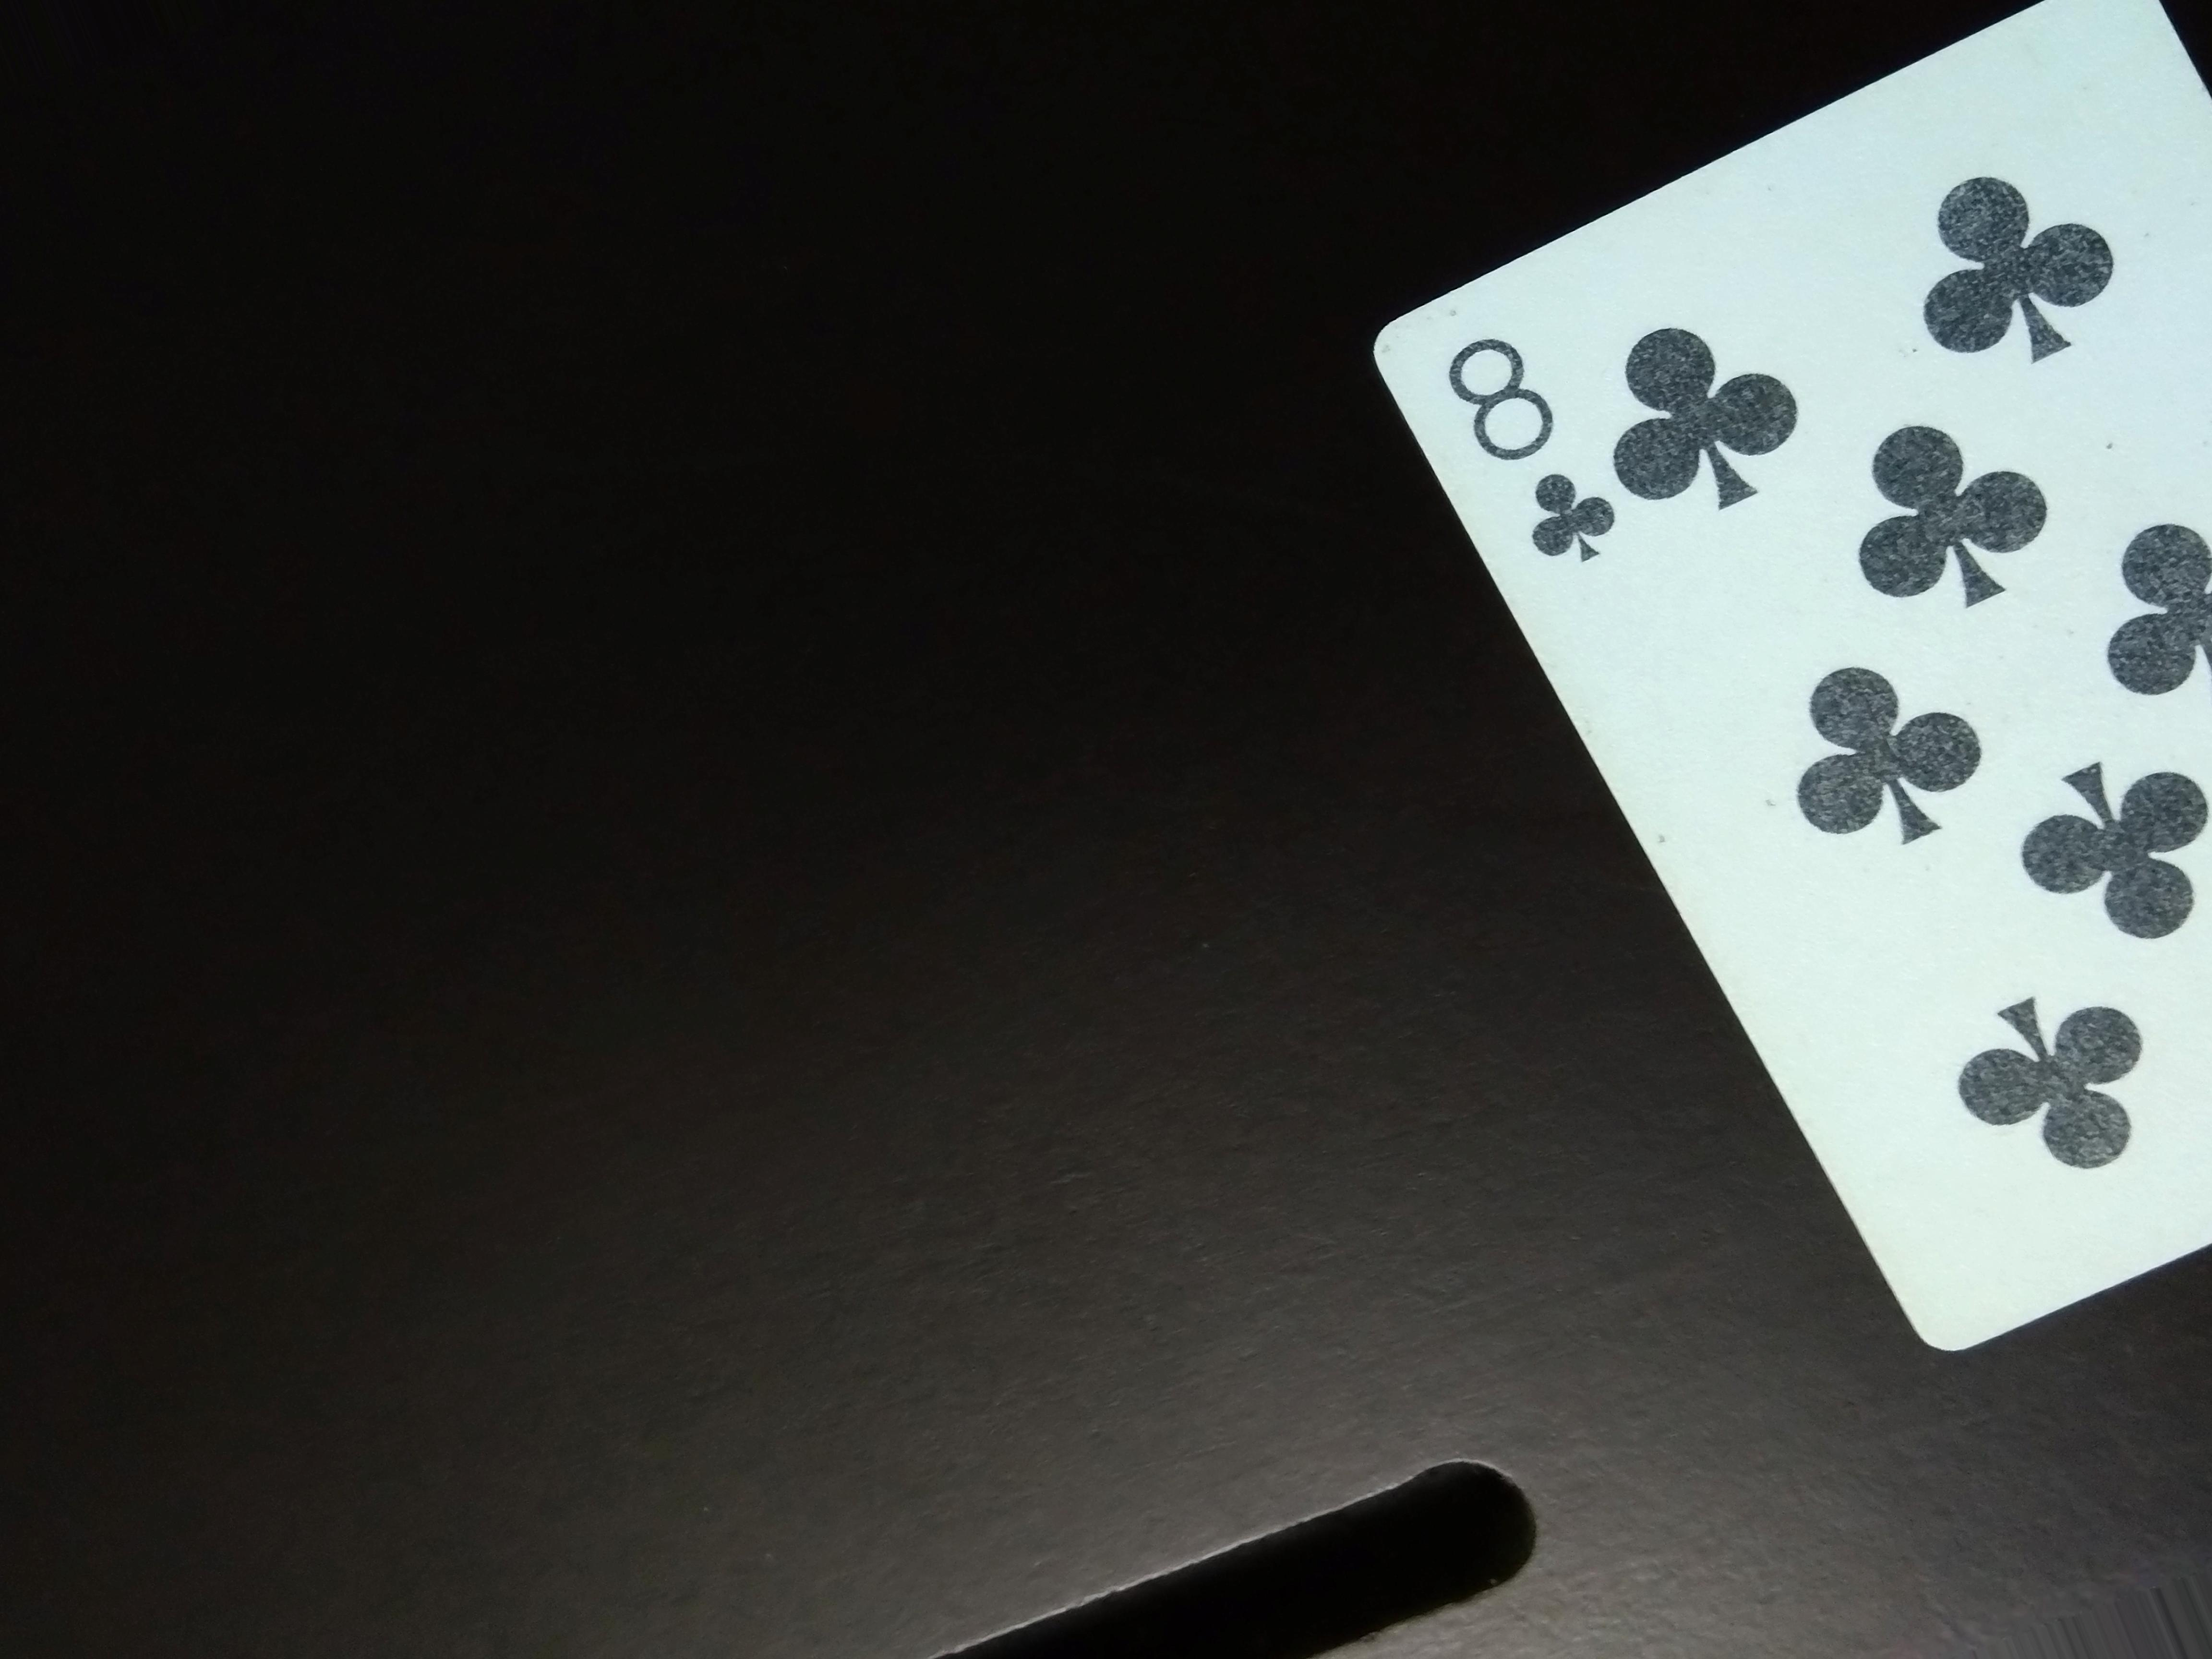8C: (1435, 324, 1641, 612)
